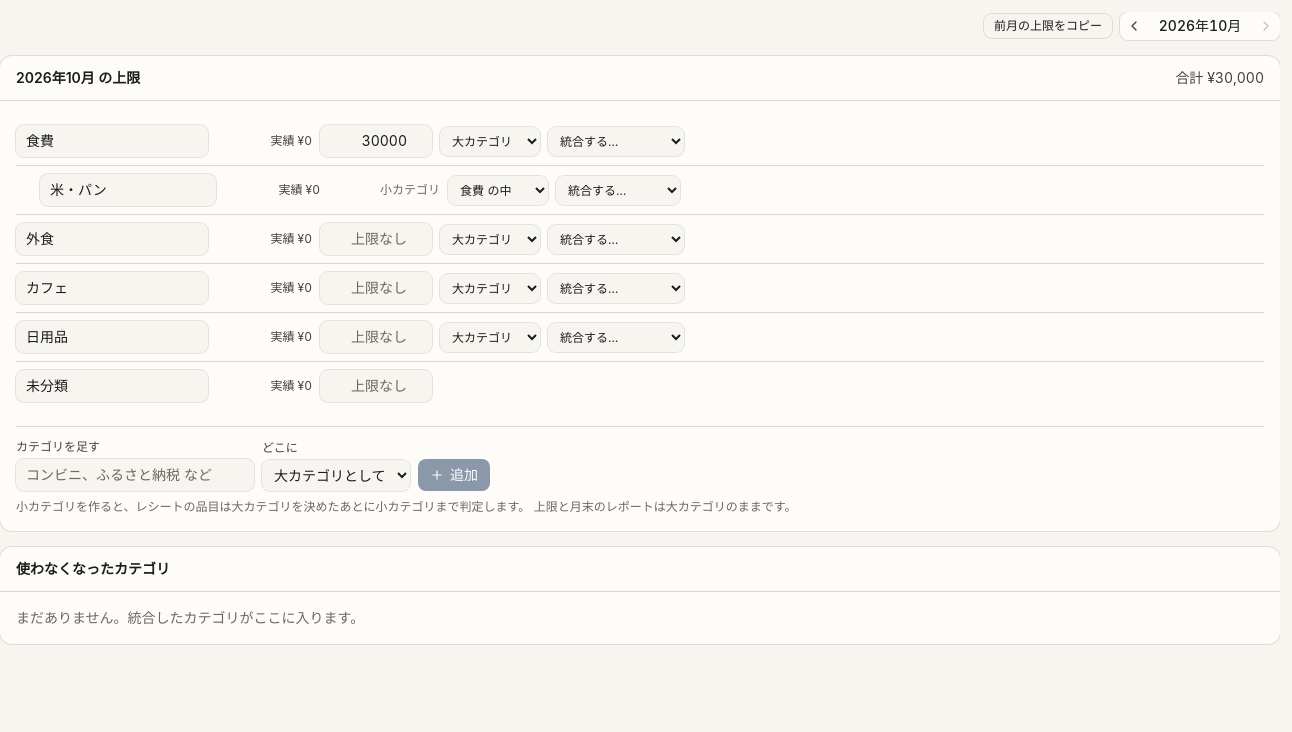
CategoriesPage › 月を変えると、上限の欄もその月の値に変わる
Expected: the number field named "食費 の上限" holds "30000", [320,125,432,157]
What coordinates should you click on to do the following:
click the button named "前の月"
I would click on:
 (1134, 26)
Its box is [1120,12,1148,40].
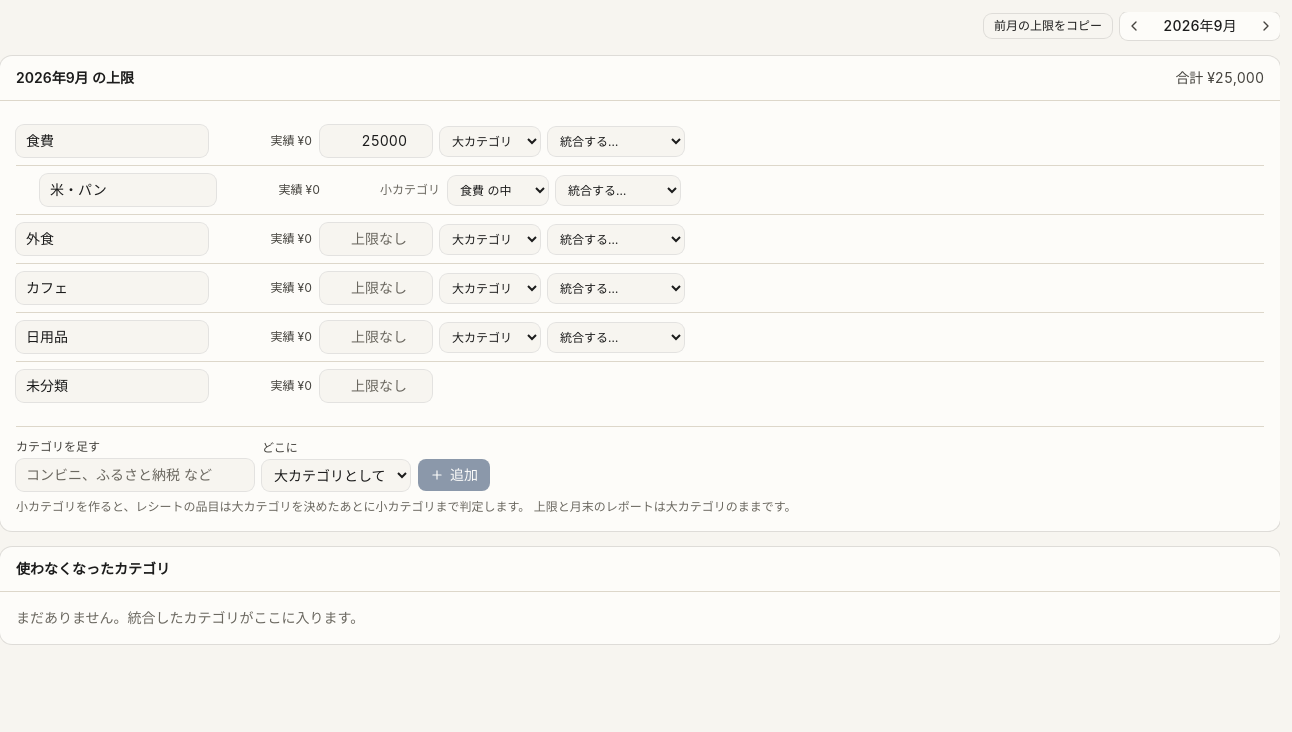
Now the number field named "食費 の上限" holds "25000", box [320,125,432,157]
